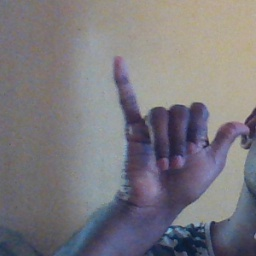J: (112, 53, 252, 201)
